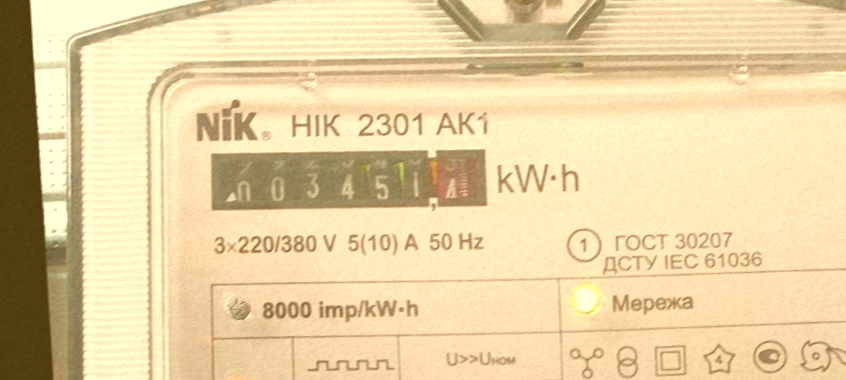0: (231, 176, 253, 205), (266, 174, 287, 203)
1: (406, 168, 424, 200)
3: (301, 169, 322, 201)
4: (335, 171, 357, 204), (439, 175, 460, 204)
5: (371, 171, 390, 203)
screen: (201, 132, 494, 231)
